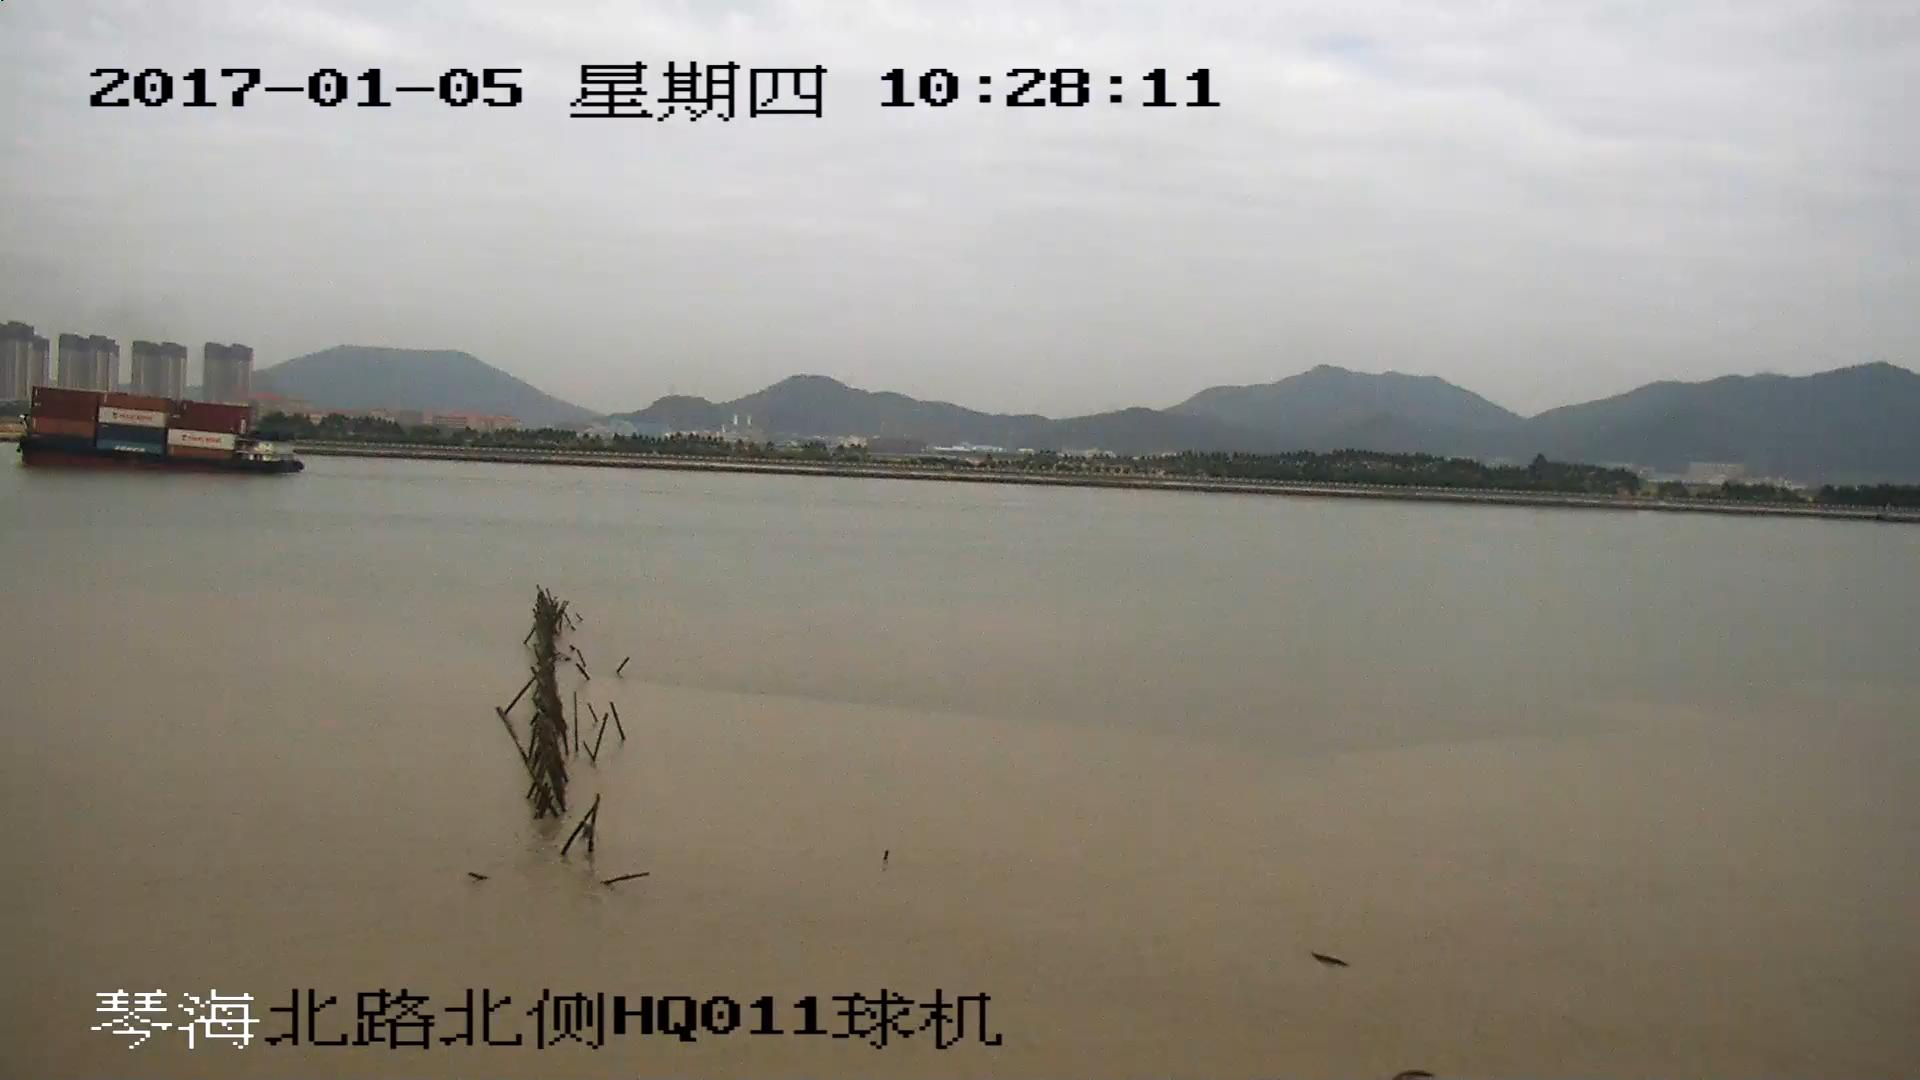container ship: (19, 389, 299, 477)
